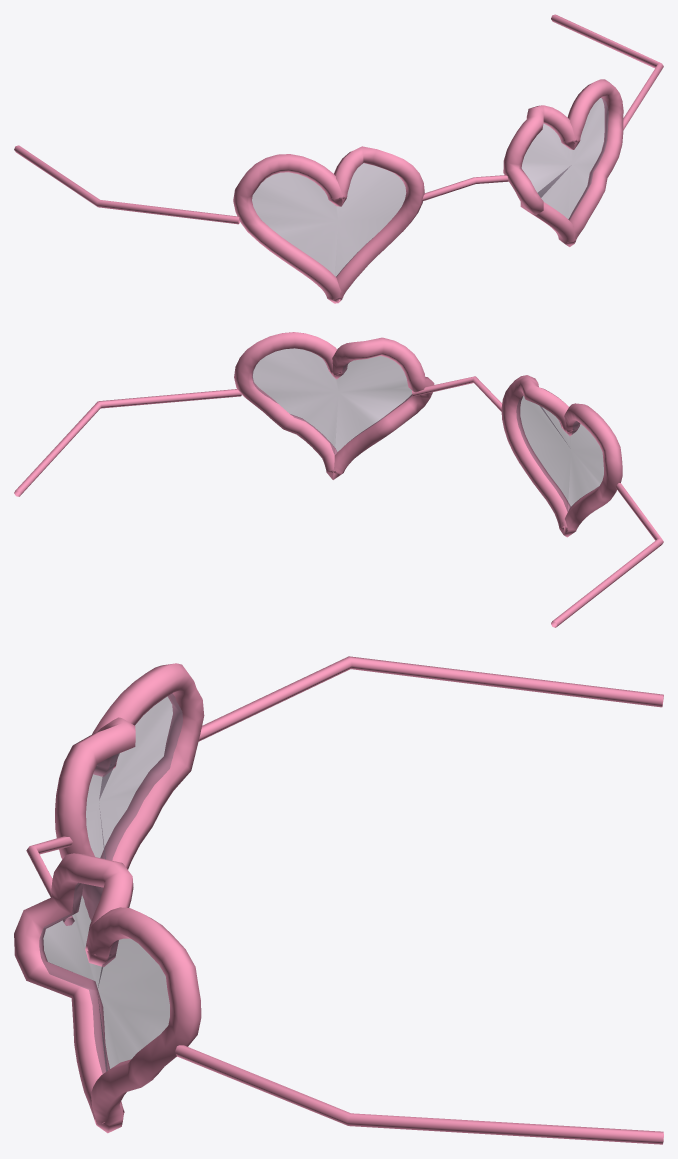
Rendered from glasses_heart_pig_tailored.glb.
The picture shows the model from 3 angles, top to bottom: view 1: azimuth 30°, elevation 25°; view 2: azimuth 150°, elevation 25°; view 3: azimuth 270°, elevation 25°; orthographic projection. The views are drawn at different scales.
Visible parts, largest first — view 1: Lente ahumada.008, Montura.012, Montura.013, Lente ahumada.009, Patilla curva.012, Patilla curva.013, Puente nasal.006; view 2: Lente ahumada.009, Montura.013, Montura.012, Lente ahumada.008, Patilla curva.013, Patilla curva.012, Puente nasal.006; view 3: Montura.013, Montura.012, Lente ahumada.009, Lente ahumada.008, Patilla curva.013, Patilla curva.012, Puente nasal.006.
Part boxes in pixels (left/top/right/bottom): Lente ahumada.008: left=252, top=163, right=405, bottom=276; Montura.012: left=233, top=146, right=424, bottom=303; Montura.013: left=503, top=79, right=623, bottom=246; Lente ahumada.009: left=521, top=98, right=608, bottom=219; Patilla curva.012: left=14, top=145, right=239, bottom=224; Patilla curva.013: left=551, top=14, right=663, bottom=130; Puente nasal.006: left=422, top=175, right=508, bottom=201; Lente ahumada.009: left=252, top=348, right=412, bottom=454; Montura.013: left=234, top=332, right=434, bottom=479; Montura.012: left=501, top=375, right=622, bottom=537; Lente ahumada.008: left=516, top=396, right=603, bottom=511; Patilla curva.013: left=14, top=389, right=241, bottom=496; Patilla curva.012: left=551, top=483, right=663, bottom=627; Puente nasal.006: left=412, top=376, right=502, bottom=411; Montura.013: left=14, top=853, right=201, bottom=1133; Montura.012: left=55, top=663, right=204, bottom=920; Lente ahumada.009: left=39, top=882, right=169, bottom=1073; Lente ahumada.008: left=86, top=693, right=182, bottom=860; Patilla curva.013: left=175, top=1045, right=663, bottom=1144; Patilla curva.012: left=198, top=656, right=663, bottom=741; Puente nasal.006: left=26, top=836, right=74, bottom=925.
Bounding box in the file's own units: 0.8373 × 0.2075 × 0.4978.
